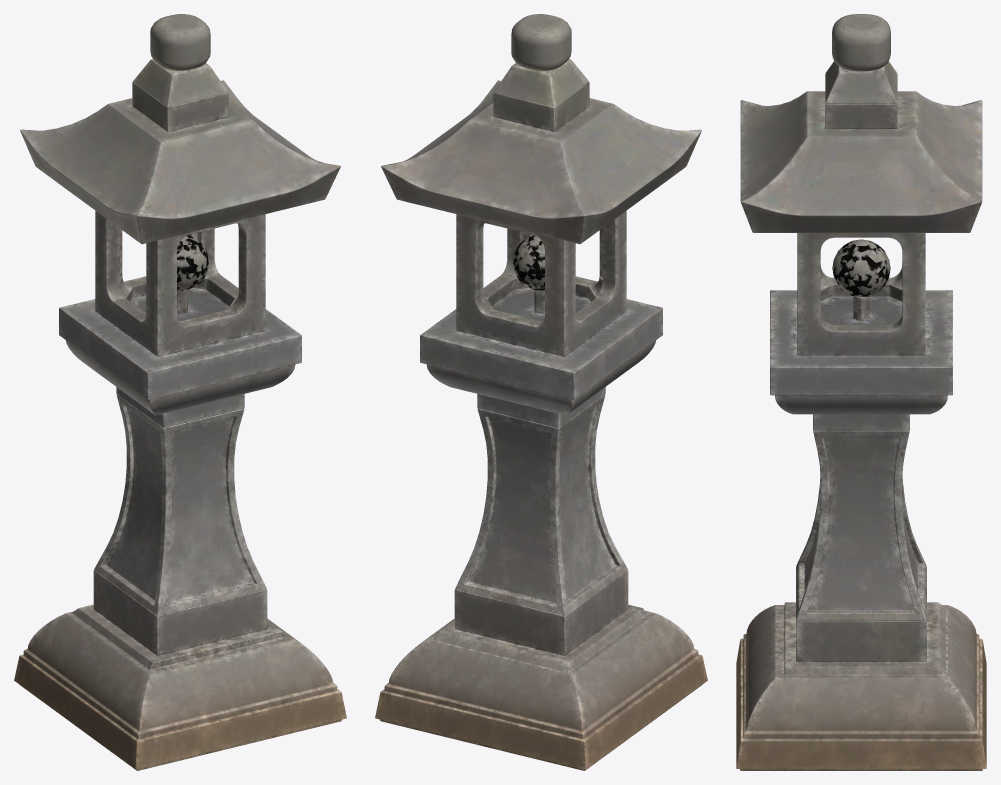
The model's file is Japanese_Stone_Lantern.glb.
3 views of the same model, side by side, from view 1: azimuth 30°, elevation 25°; view 2: azimuth 150°, elevation 25°; view 3: azimuth 270°, elevation 25° (orthographic). The views are drawn at different scales.
Visible parts, largest first — view 1: Japanese Stone Lantern; view 2: Japanese Stone Lantern; view 3: Japanese Stone Lantern.
Boxes of the visible parts, x1,y1,x2,y2 form: Japanese Stone Lantern: [14, 14, 346, 770]; Japanese Stone Lantern: [375, 14, 707, 770]; Japanese Stone Lantern: [736, 14, 986, 770].
Size of the model in its own units: 0.4833 by 1.49 by 0.4833.
1 material, 1 textured.
